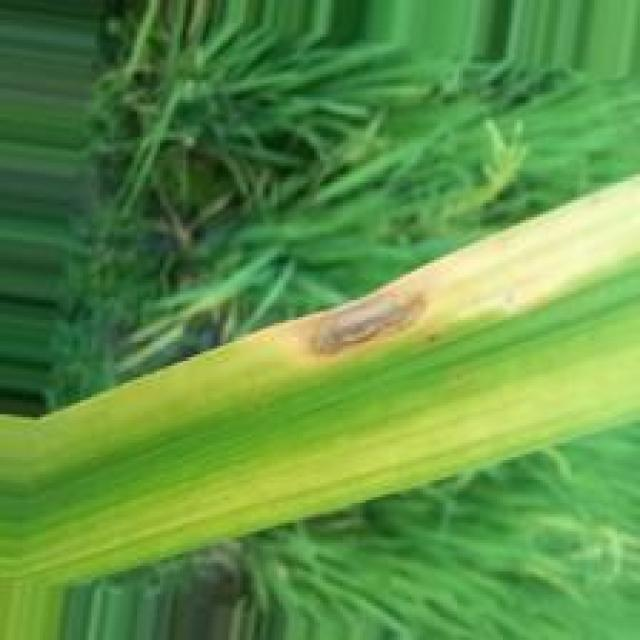Rice Tungro: (272, 170, 640, 371)
